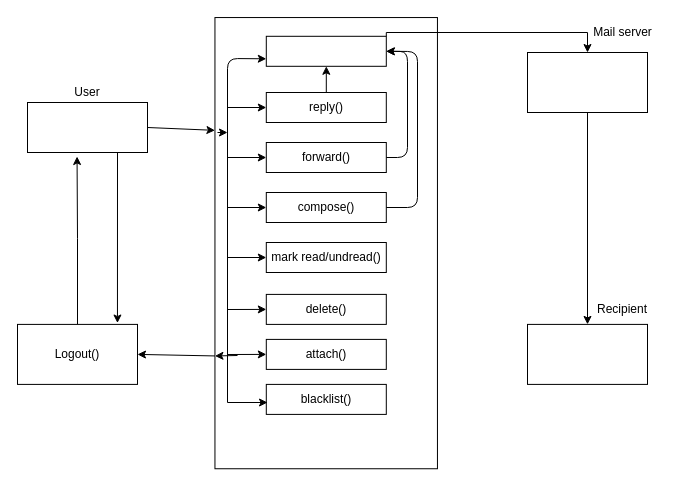
The diagram is 675 pixels wide and 487 high, and some of its shapes have lost their labels. Here are the shapes that lost their labels. From the top down, the centre of each, then its label:
At point 325,50: "send()".
At point 87,127: "Login()".
